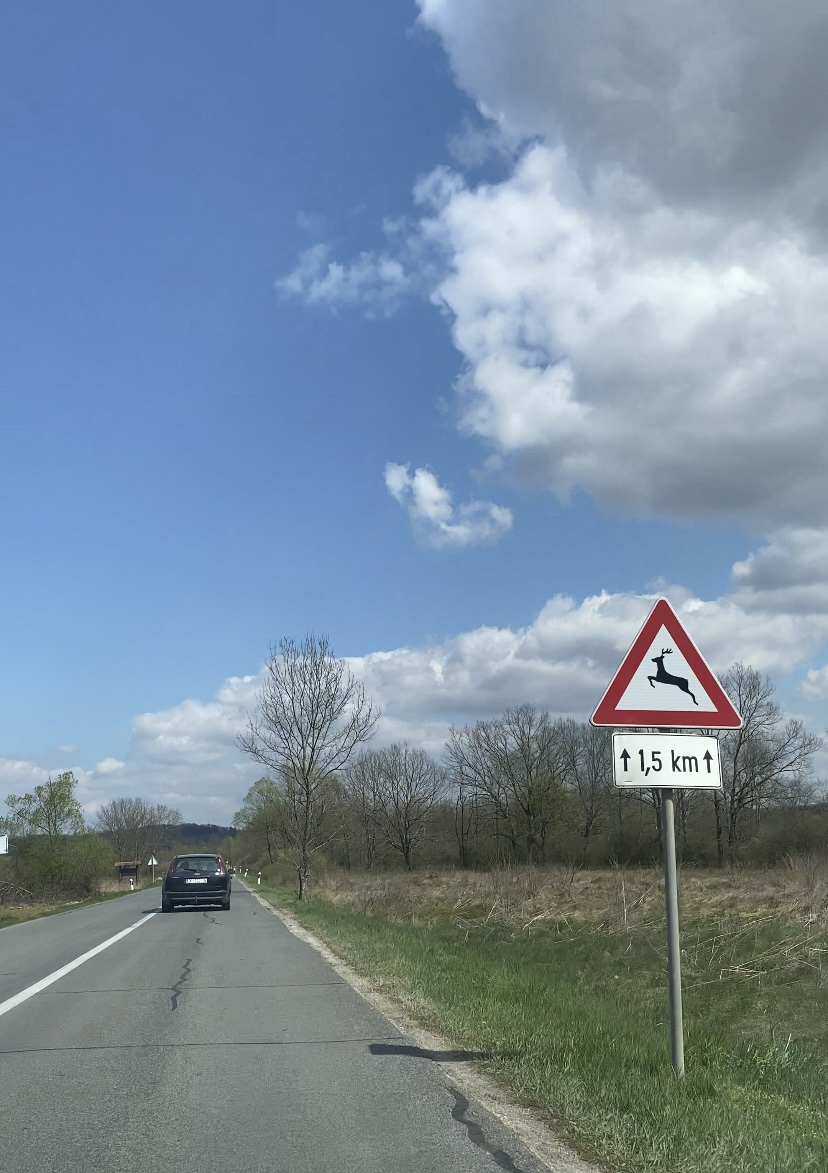Divljač na cesti: (590, 597, 743, 729)
